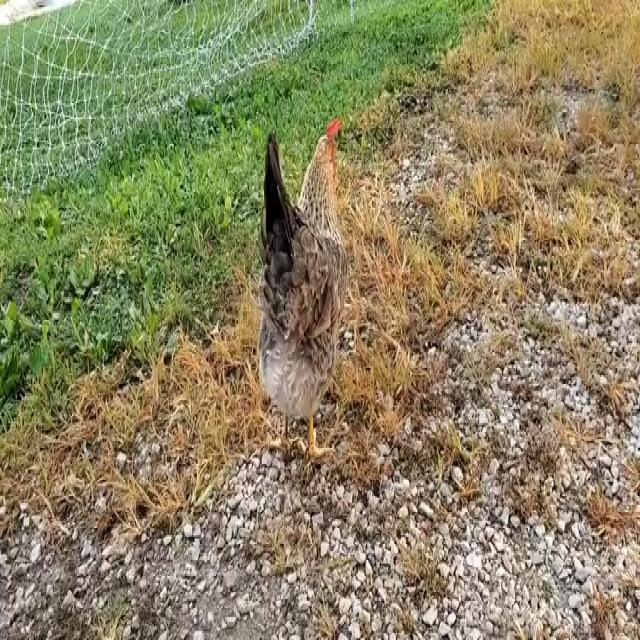walking: (242, 117, 364, 471)
